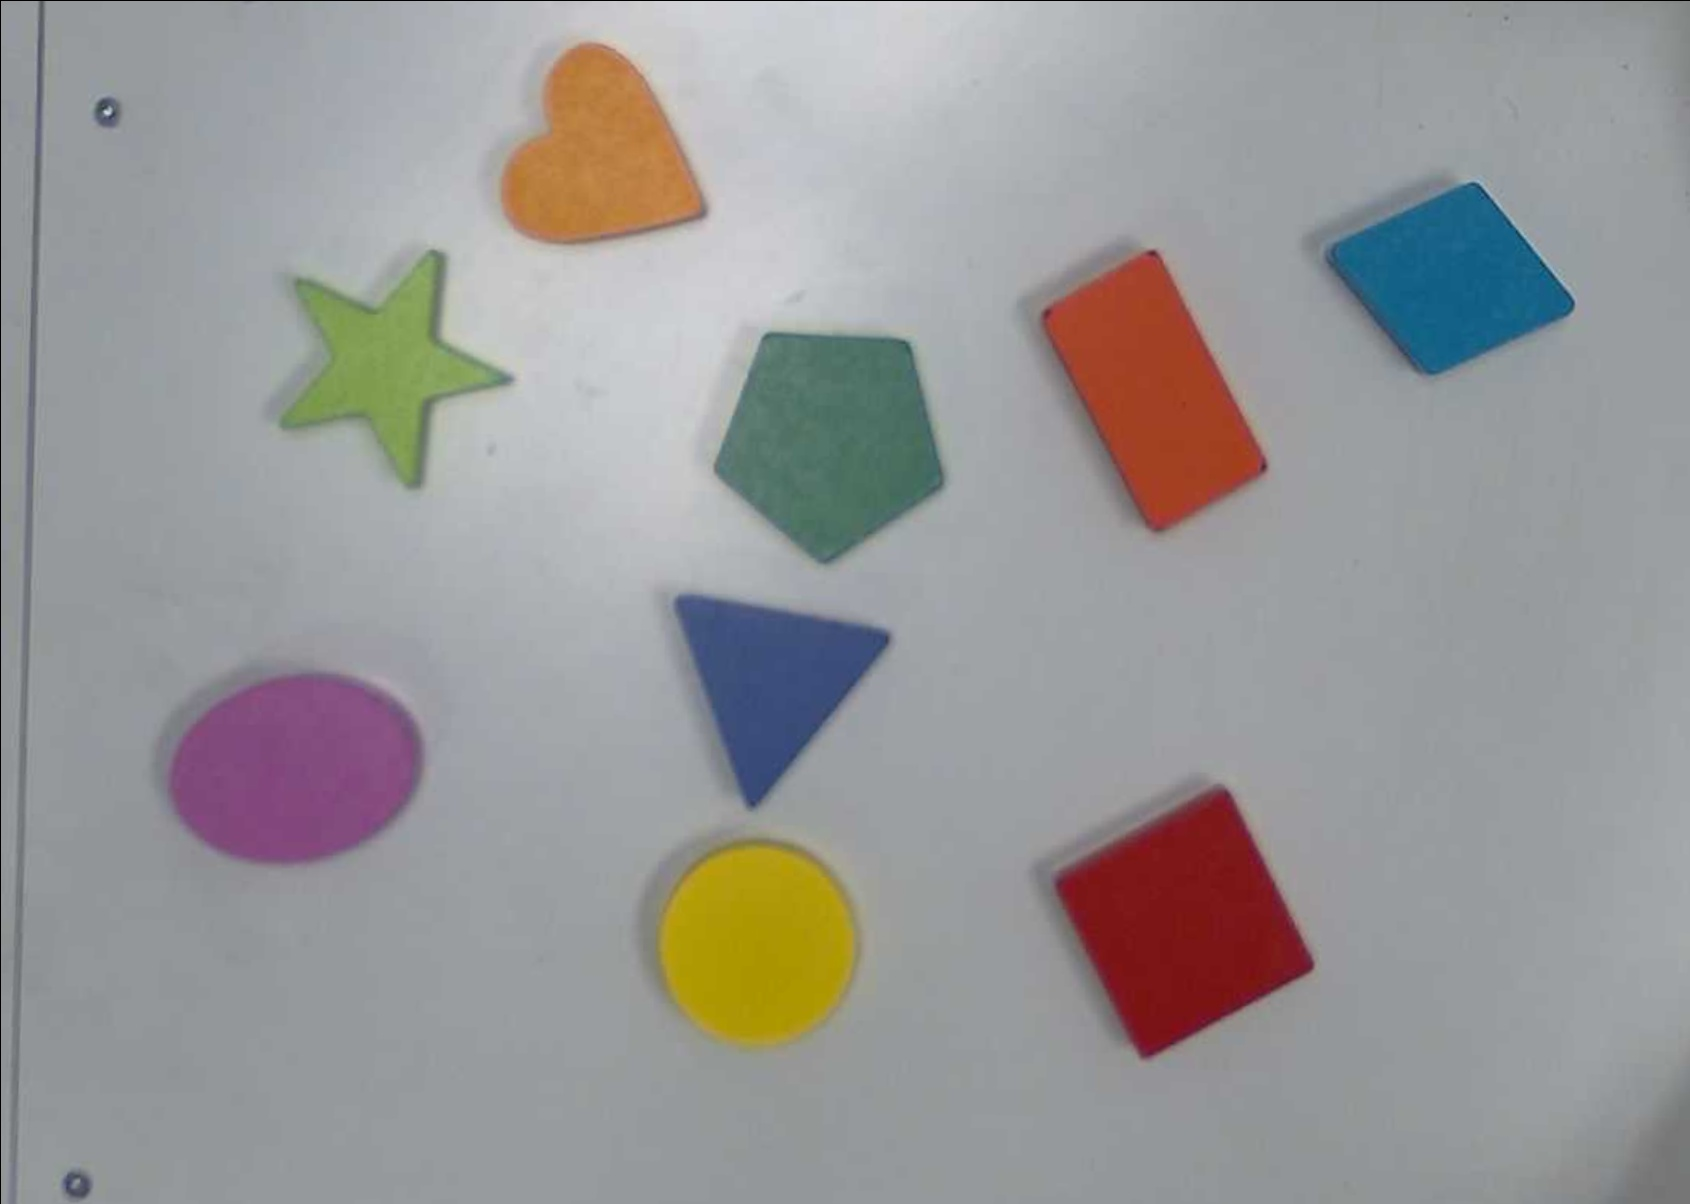Circle: (658, 843, 860, 1054)
Ellipse: (163, 671, 425, 868)
Heart: (477, 42, 709, 248)
Parallelogram: (1328, 179, 1573, 384)
Pentagon: (708, 328, 952, 571)
Rectangle: (1041, 248, 1272, 533)
Square: (1050, 777, 1319, 1065)
Star: (274, 245, 516, 491)
Triangle: (670, 592, 891, 818)
